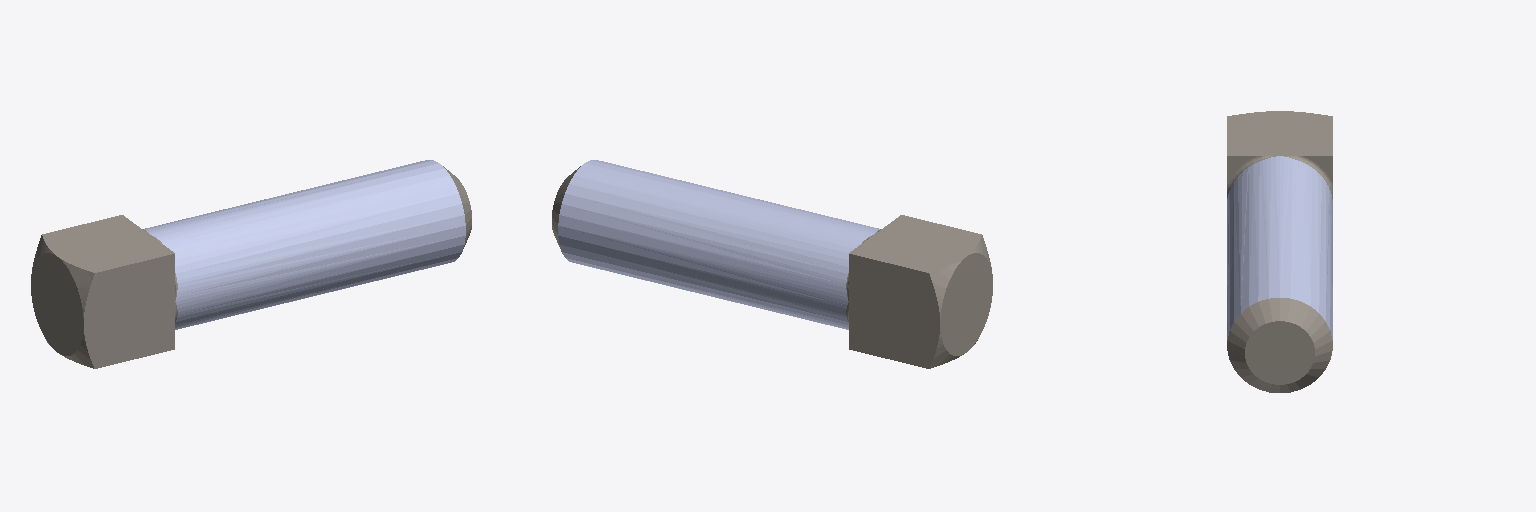
The picture shows the model from 3 angles: view 1: azimuth 30°, elevation 25°; view 2: azimuth 150°, elevation 25°; view 3: azimuth 270°, elevation 25°; orthographic projection.
Parts seen in each view (by area): view 1: gb__t_821_1988_________________m6__20_; view 2: gb__t_821_1988_________________m6__20_; view 3: gb__t_821_1988_________________m6__20_.
Boxes of the visible parts, x1=… form: gb__t_821_1988_________________m6__20_: x1=31, y1=160, x2=471, y2=368; gb__t_821_1988_________________m6__20_: x1=552, y1=160, x2=992, y2=368; gb__t_821_1988_________________m6__20_: x1=1227, y1=111, x2=1332, y2=392.
Bounding box in the file's own units: 26 × 6 × 6.